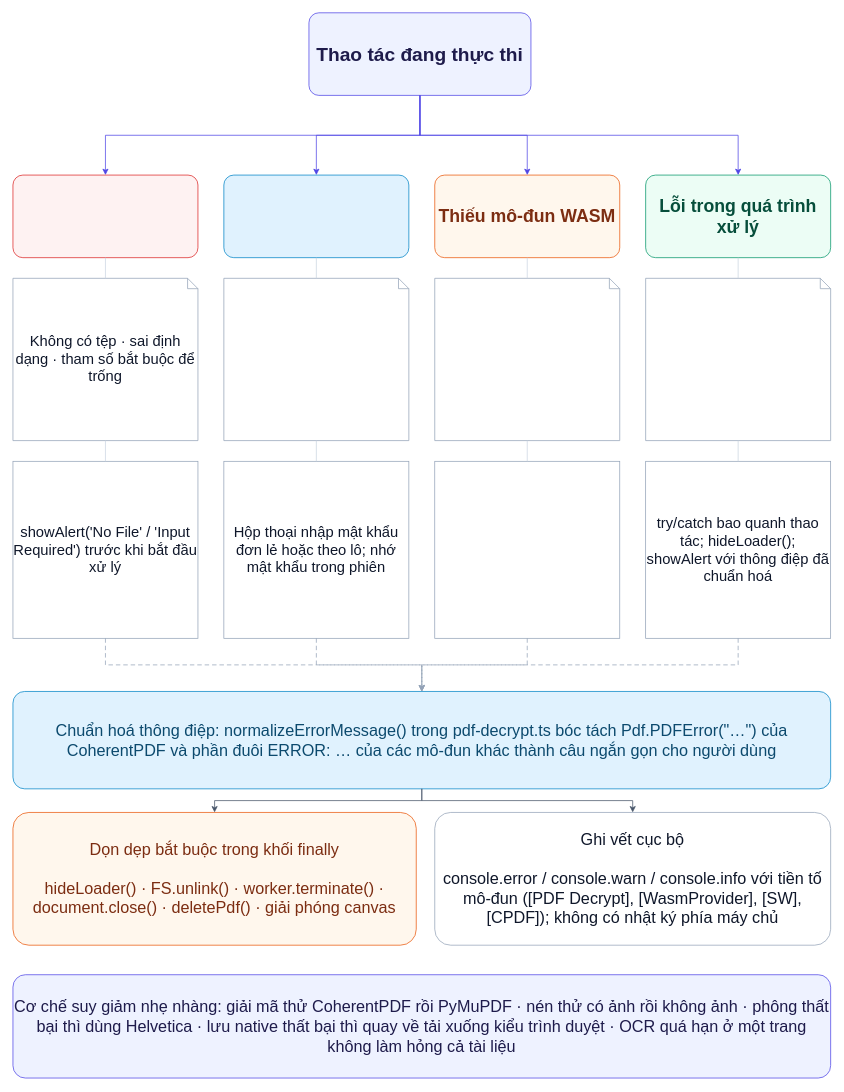
The diagram is 844 pixels wide and 1092 high, and some of its shapes have lost their labels. Here are the shapes that lost their labels. From the top down, the centre of each, then its label:
the point at 105,216: Lỗi đầu vào
the point at 316,216: Tệp có mật khẩu
the point at 316,359: pdf.js ném PasswordException; cpdf/PyMuPDF báo xác thực thất bại
the point at 527,359: WasmProvider.isConfigured() trả về false hoặc tải tệp thất bại
the point at 738,359: Ngoại lệ từ qpdf/cpdf/PyMuPDF, lỗi Web Worker, quá hạn OCR
the point at 527,549: showWasmRequiredDialog() nêu rõ các tính năng phụ thuộc và lối cấu hình
